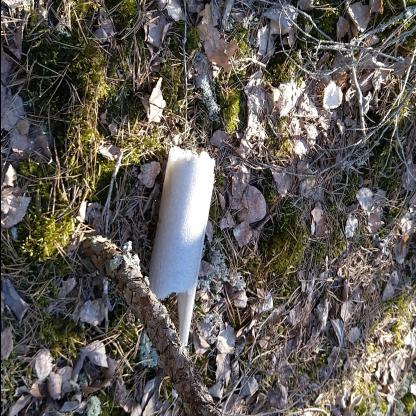kopuk: (148, 146, 216, 346)
